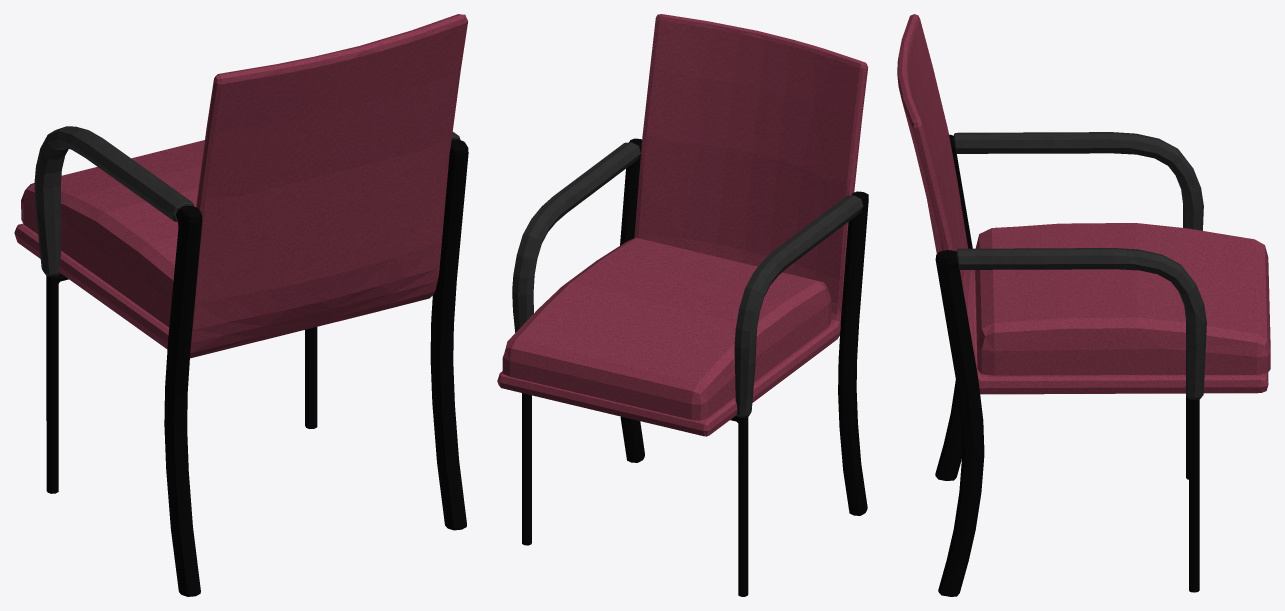
File: Chair825.glb
3 renders of one model, left to right at view 1: azimuth 30°, elevation 25°; view 2: azimuth 150°, elevation 25°; view 3: azimuth 270°, elevation 25°, orthographic. The views are drawn at different scales.
Parts seen in each view (by area): view 1: AI53_006_Chair_V2_001; view 2: AI53_006_Chair_V2_001; view 3: AI53_006_Chair_V2_001.
Part boxes in pixels (x1,y1,x2,y2): AI53_006_Chair_V2_001: (14, 14, 468, 596); AI53_006_Chair_V2_001: (497, 14, 868, 596); AI53_006_Chair_V2_001: (897, 14, 1270, 596).
Size of the model in its own units: 10.31 by 17.74 by 12.81.
1 material, 1 textured.
